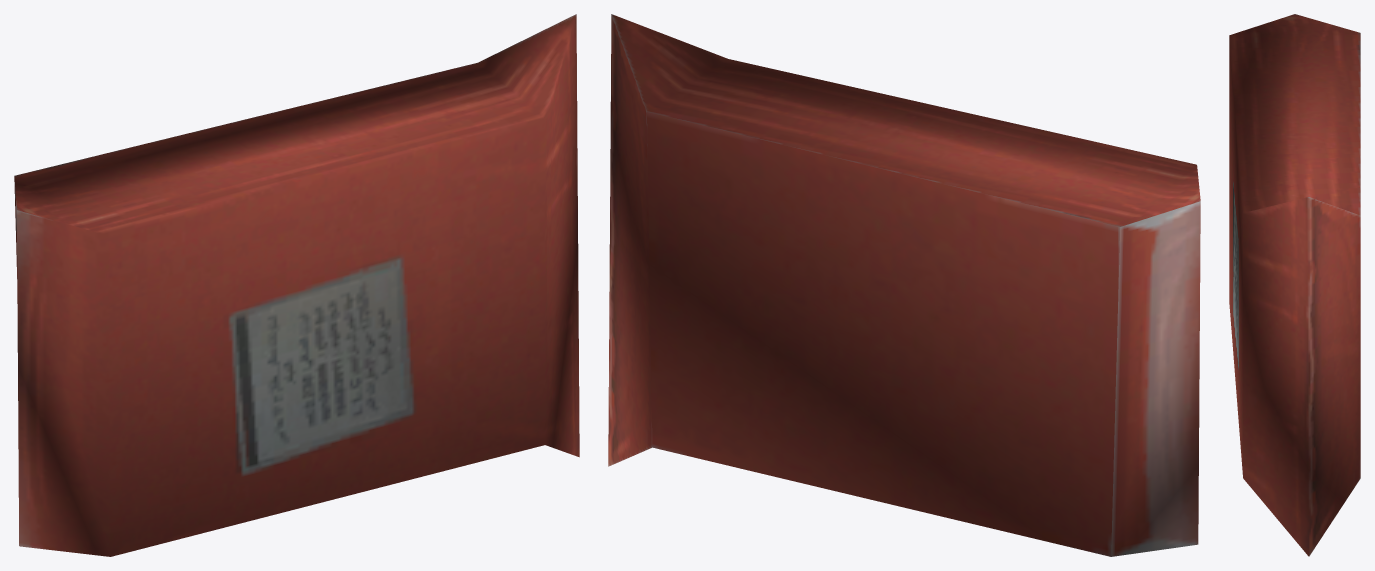
File: p6_bag_spice_LOD2.obj
3 views of the same model, side by side, from view 1: azimuth 30°, elevation 25°; view 2: azimuth 150°, elevation 25°; view 3: azimuth 270°, elevation 25° (orthographic). The views are drawn at different scales.
Visible parts, largest first — view 1: mtl_p6_bag_spice; view 2: mtl_p6_bag_spice; view 3: mtl_p6_bag_spice.
Boxes of the visible parts, x1,y1,x2,y2 form: mtl_p6_bag_spice: (14, 14, 579, 556); mtl_p6_bag_spice: (608, 14, 1200, 556); mtl_p6_bag_spice: (1229, 14, 1360, 556).
Size of the model in its own units: 31.88 by 23.67 by 7.86.
